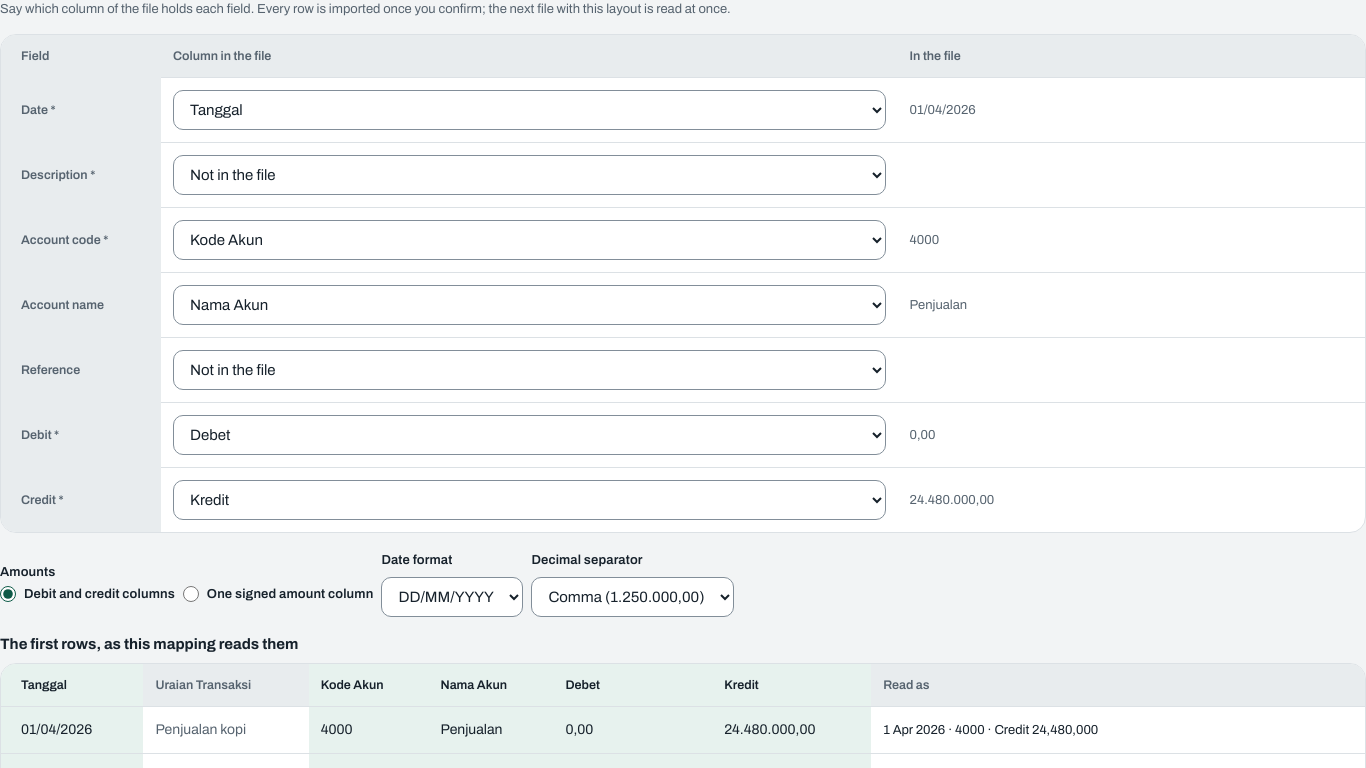
Scenario: MappingEditor › a column choice and the amount layout go back to the panel
This screenshot has width=1366, height=768.
Select "Uraian Transaksi" in the dropdown named "Description": point(529, 175) [173, 155, 886, 195]
Click the radio button labelled "One signed amount column": point(191, 594) [183, 586, 199, 602]
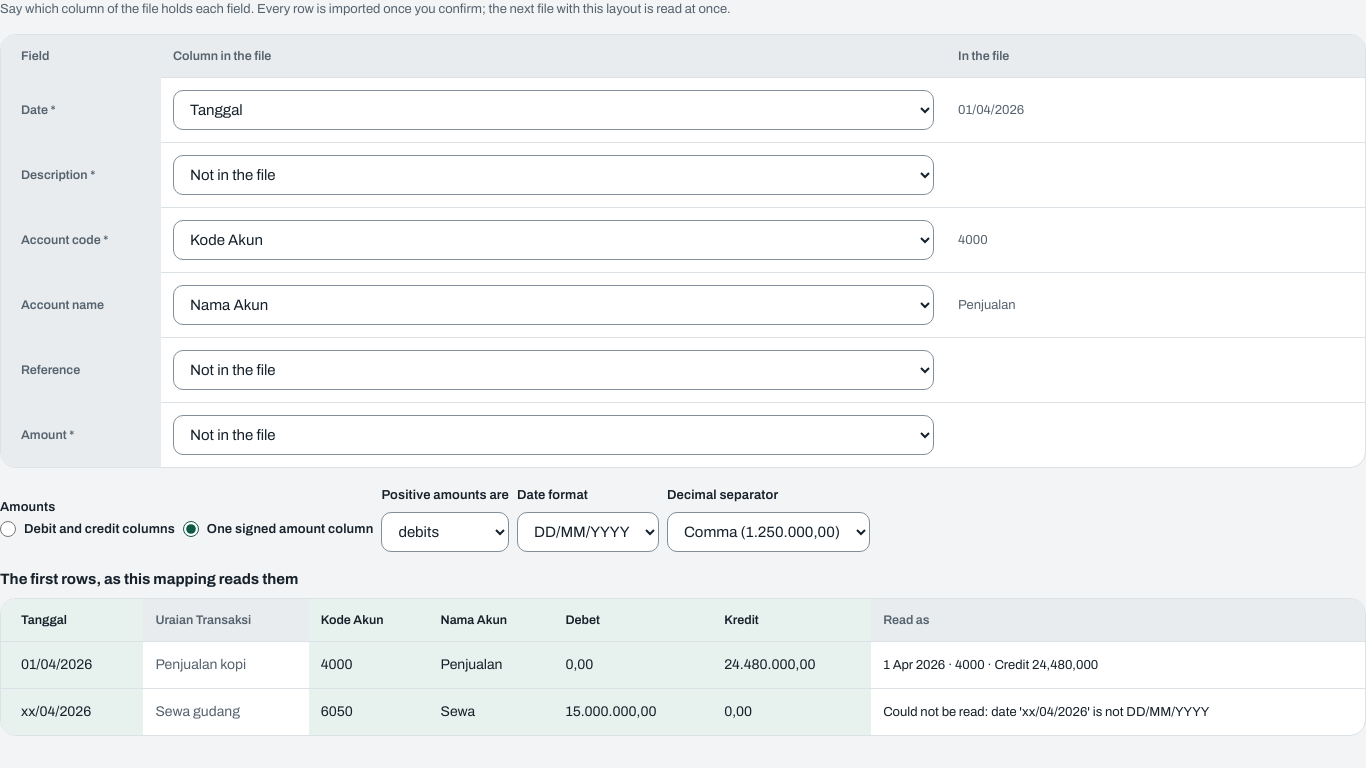
Check: the dropdown named "Amount" is shown, box [173, 415, 934, 455]
Check: the dropdown labelled "Positive amounts are" shows "debits", box [381, 512, 509, 552]
